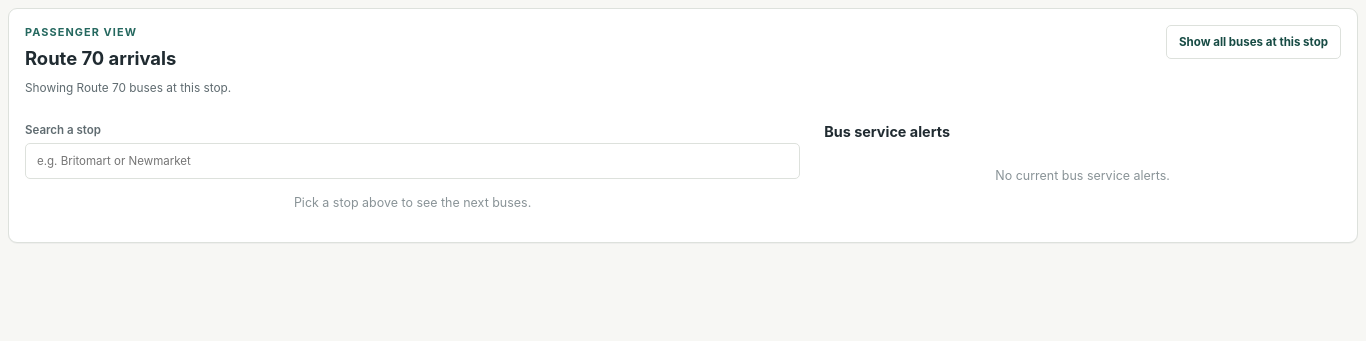
Test: Passenger board › explains an empty route-scoped board
Type "Brit" into the search field with placeholder "e.g. Britomart or Newmarket" at (413, 161), box top-left (25, 143), bottom-right (800, 179)
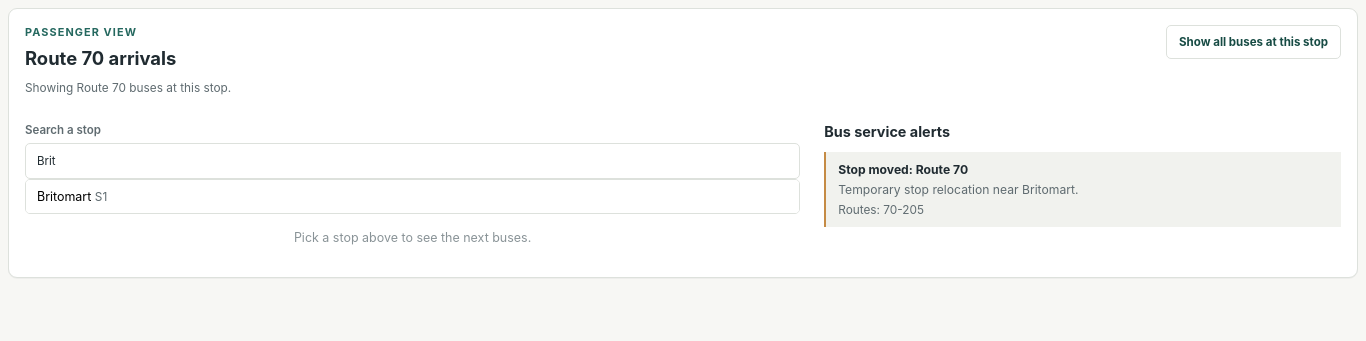
Click the button "Britomart S1" at (64, 196), box top-left (26, 180), bottom-right (799, 213)
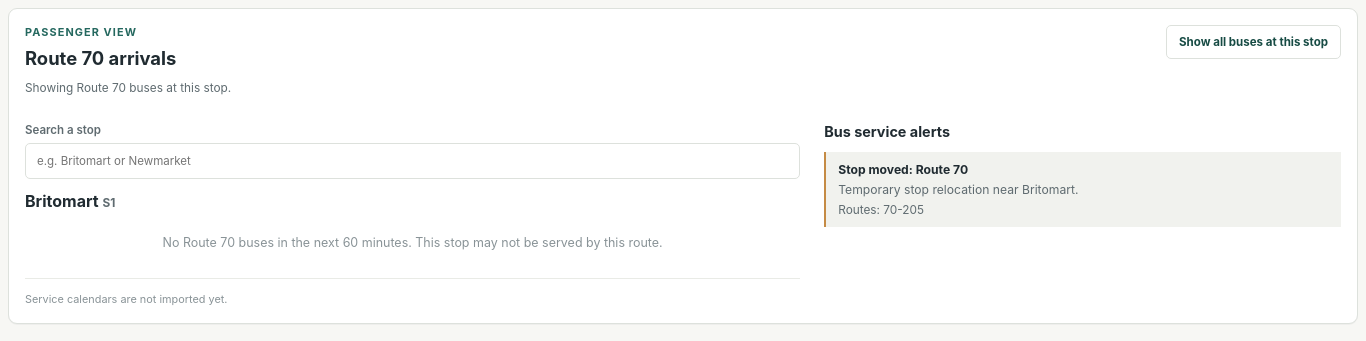
Check: the text "No Route 70 buses in the next 60 minutes" is shown, box top-left (162, 235), bottom-right (663, 250)
